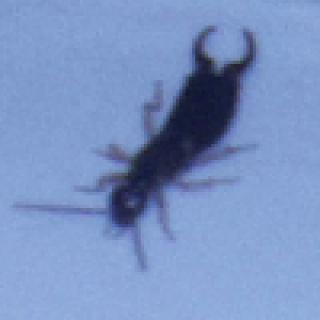earwig: (8, 20, 264, 276)
